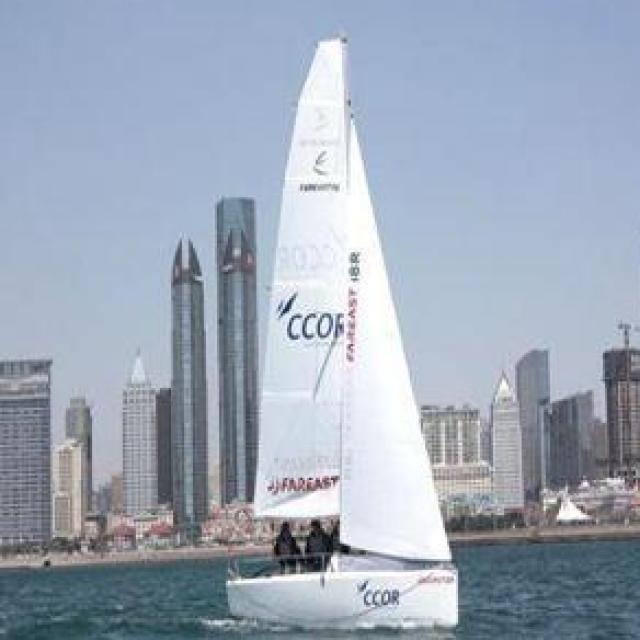sailboat: (214, 8, 466, 625)
